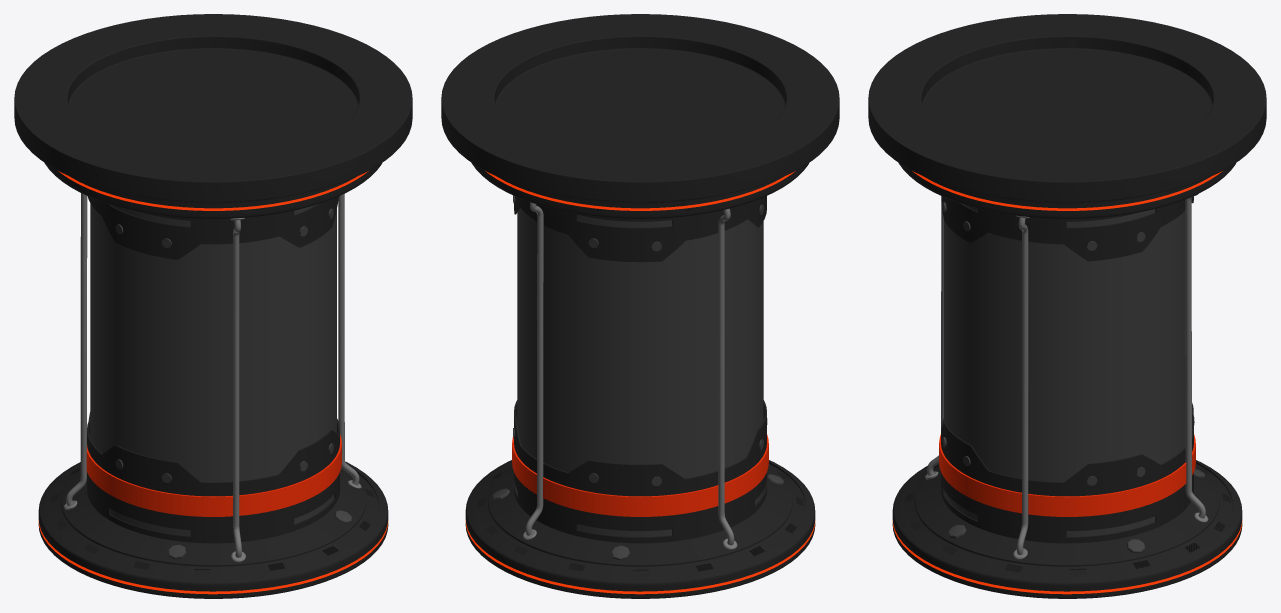
The model's file is Capsula.FBX.
3 views of the same model, side by side, from view 1: azimuth 30°, elevation 25°; view 2: azimuth 150°, elevation 25°; view 3: azimuth 270°, elevation 25° (orthographic).
Visible parts, largest first — view 1: Scifi-Capsule, Cylinder010, Line003, Line002, Line004, light, light001; view 2: Scifi-Capsule, Cylinder010, Line002, Line001, light, light001; view 3: Scifi-Capsule, Cylinder010, Line004, Line001, light, light001, Line003.
Boxes of the visible parts, left/top/right/bottom form: Scifi-Capsule: left=14, top=14, right=412, bottom=598; Cylinder010: left=90, top=203, right=336, bottom=536; Line003: left=233, top=220, right=241, bottom=557; Line002: left=66, top=193, right=87, bottom=505; Line004: left=338, top=194, right=359, bottom=485; light: left=38, top=520, right=388, bottom=594; light001: left=58, top=171, right=368, bottom=210; Scifi-Capsule: left=441, top=14, right=839, bottom=598; Cylinder010: left=517, top=208, right=763, bottom=536; Line002: left=718, top=208, right=734, bottom=545; Line001: left=525, top=202, right=543, bottom=535; light: left=465, top=520, right=815, bottom=594; light001: left=485, top=171, right=795, bottom=210; Scifi-Capsule: left=868, top=14, right=1266, bottom=598; Cylinder010: left=944, top=204, right=1185, bottom=536; Line004: left=1016, top=217, right=1028, bottom=554; Line001: left=1185, top=194, right=1205, bottom=518; light: left=892, top=520, right=1242, bottom=594; light001: left=912, top=171, right=1222, bottom=210; Line003: left=927, top=202, right=943, bottom=475.
Bounding box in the file's own units: 249 × 296 × 249.
